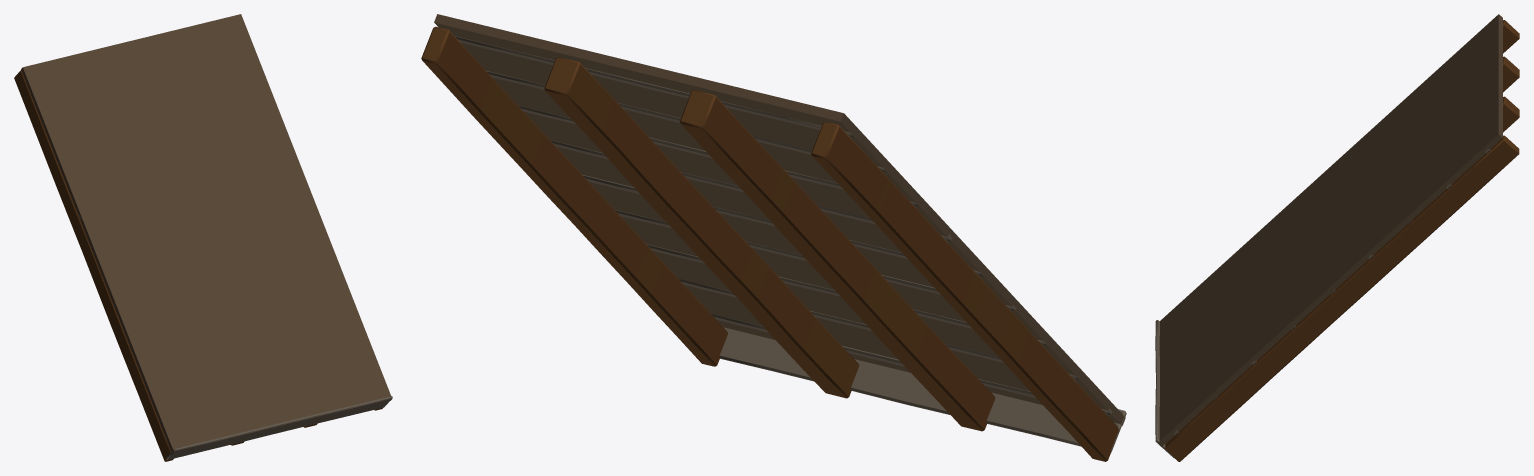
Rendered from dach.glb.
The picture shows the model from 3 angles, left to right: view 1: azimuth 30°, elevation 25°; view 2: azimuth 150°, elevation 25°; view 3: azimuth 270°, elevation 25°; orthographic projection. The views are drawn at different scales.
Visible parts, largest first — view 1: dach; view 2: dach; view 3: dach.
Part boxes in pixels (x1,y1,x2,y2): dach: (14, 14, 392, 461); dach: (421, 14, 1126, 461); dach: (1155, 14, 1519, 461).
Size of the model in its own units: 2 by 2.55 by 2.56.
